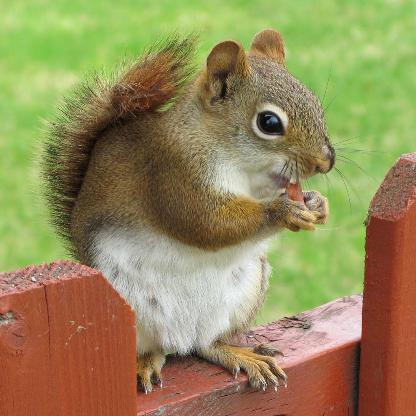Squirrel: (28, 20, 406, 392)
